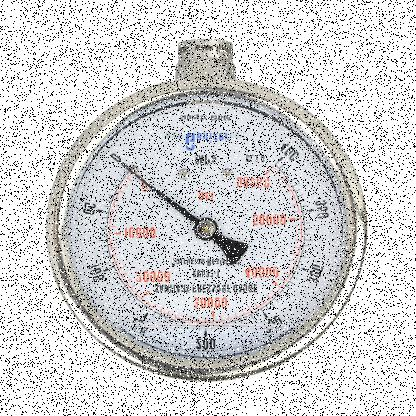needle: (121, 164, 199, 225)
